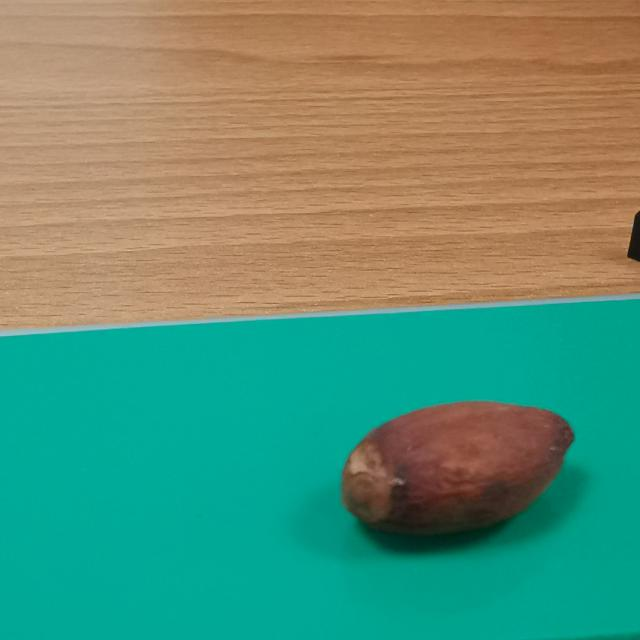Fine_cocoabeans: (238, 377, 615, 561)
